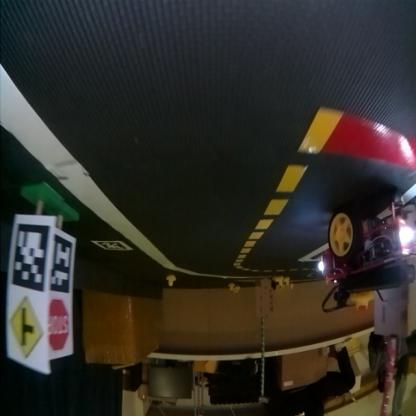Duckie: (351, 292, 373, 311), (167, 277, 177, 287), (274, 278, 284, 286)
Duckiebot: (322, 200, 416, 298)
Intersection sign: (8, 294, 50, 374)
QR code: (13, 220, 52, 294), (50, 235, 76, 294), (93, 241, 130, 251)
Stop sign: (49, 305, 73, 352)
